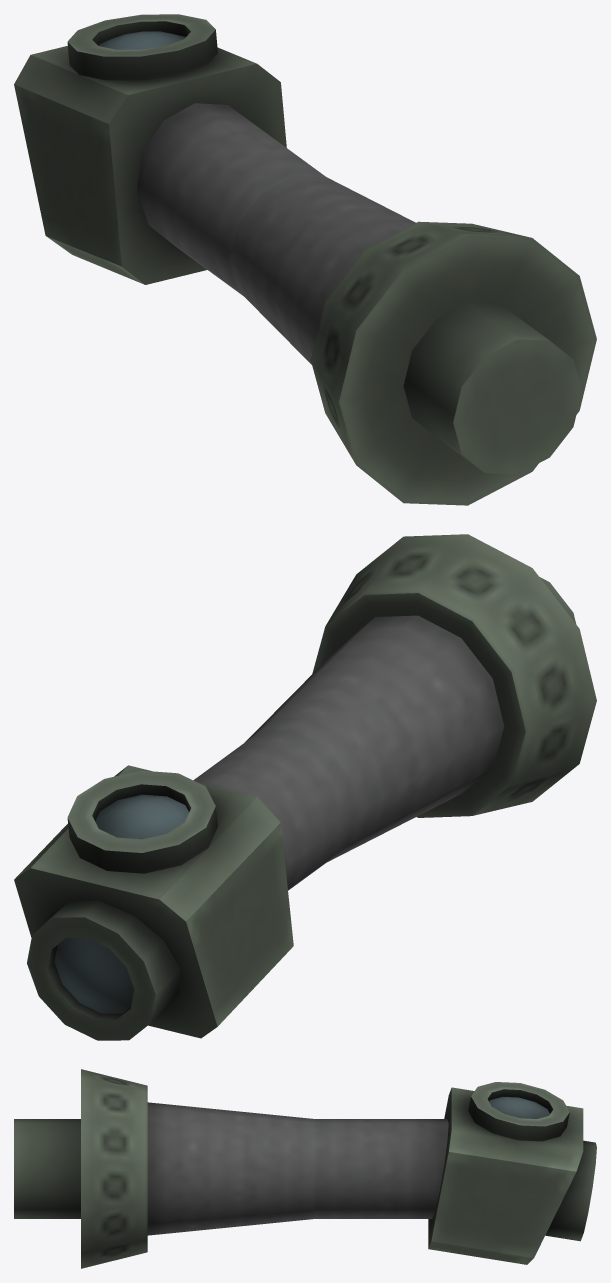
The model's file is octans_periscope_srf_1_alternate.obj.
3 renders of one model, top to bottom at view 1: azimuth 30°, elevation 25°; view 2: azimuth 150°, elevation 25°; view 3: azimuth 270°, elevation 25°, orthographic. The views are drawn at different scales.
Parts seen in each view (by area): view 1: mesh; view 2: mesh; view 3: mesh.
Part boxes in pixels (x1,y1,x2,y2): mesh: (14, 14, 596, 505); mesh: (14, 534, 596, 1040); mesh: (14, 1069, 596, 1268).
Bounding box in the file's own units: 0.15 × 0.15 × 0.4358.
Materials: 1 (1 with a texture image).
